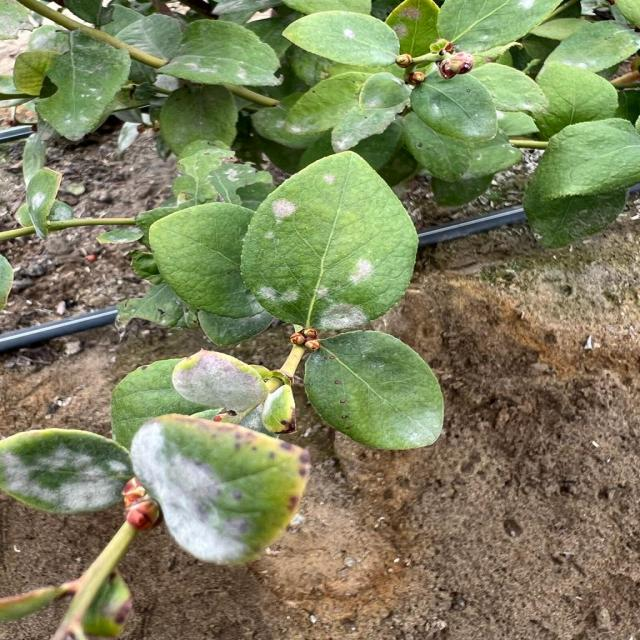Hojas con oidiosis: (125, 419, 308, 556), (267, 172, 389, 344), (324, 24, 438, 130), (0, 433, 140, 519), (386, 405, 452, 462)
